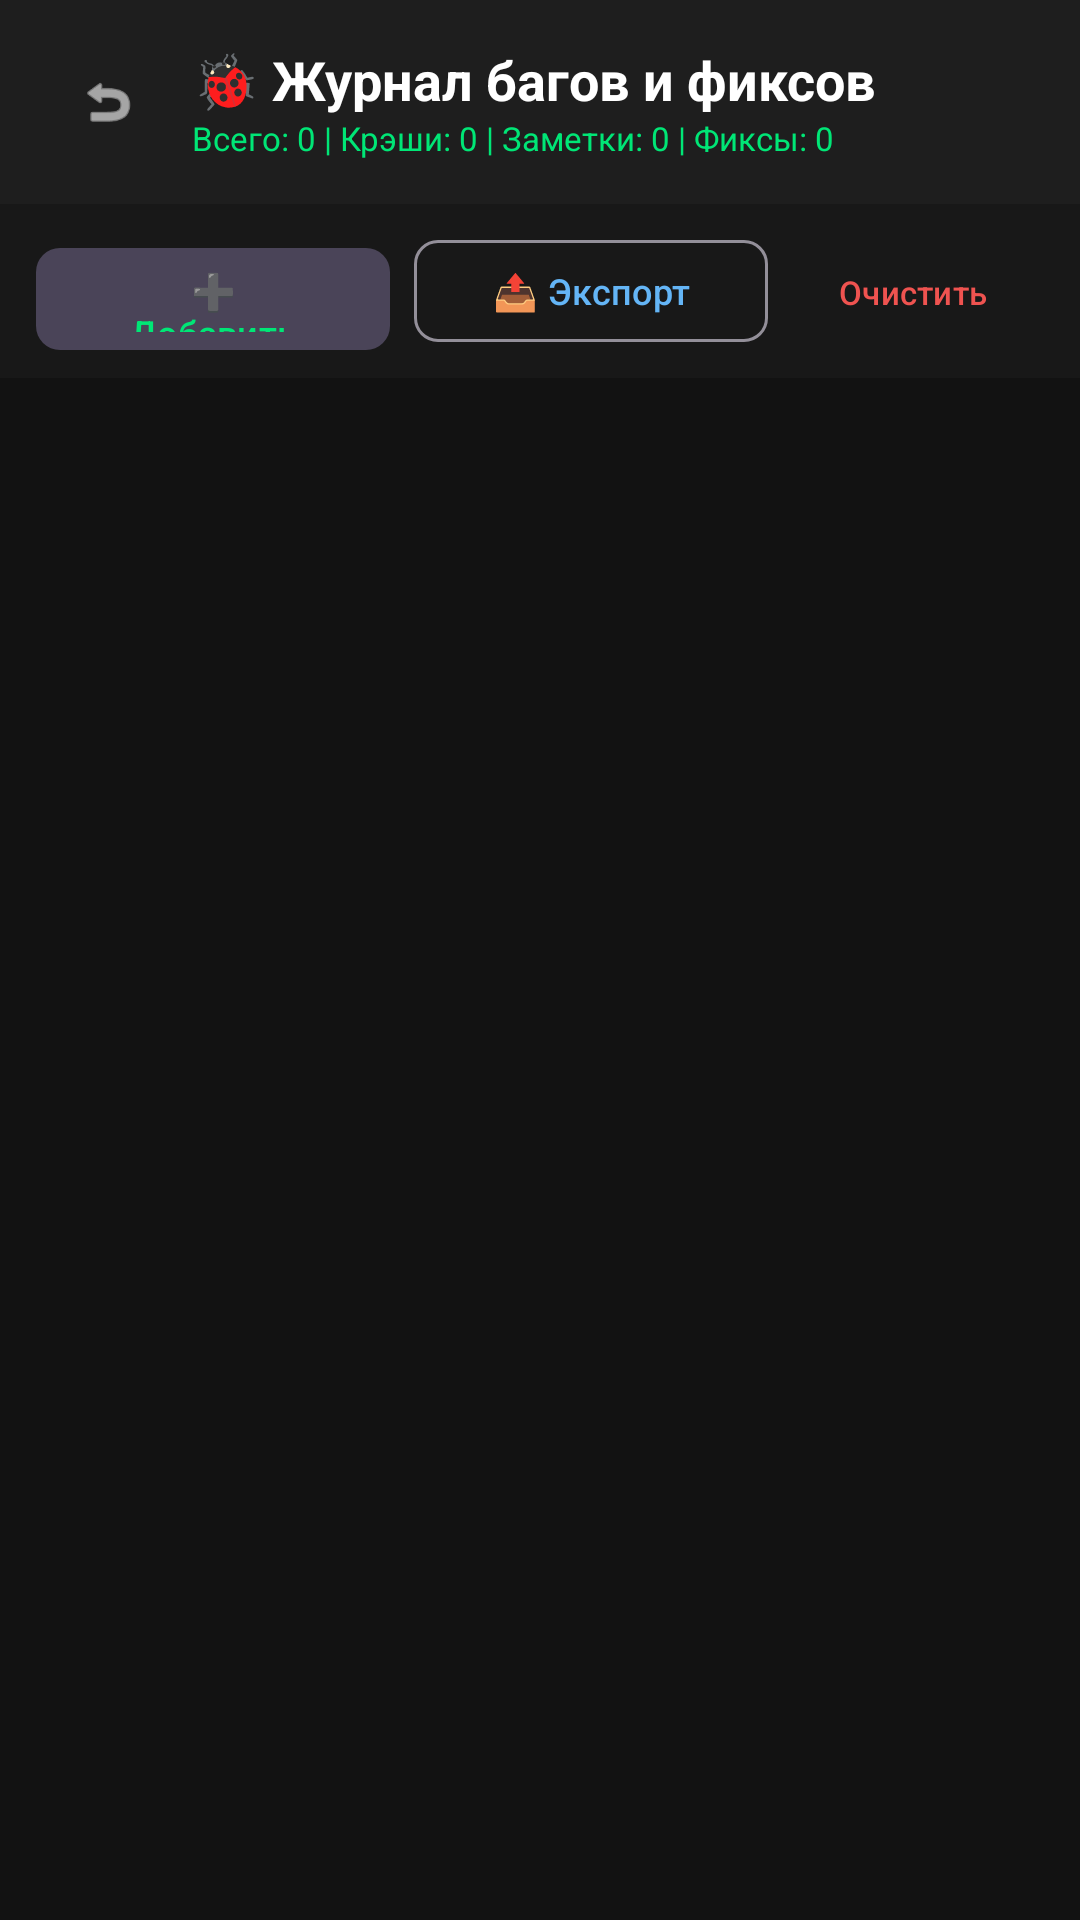

Point at icon controls on the screen. Image size 1080 x 1920, points as (x,y).
Назад: (108,102)
